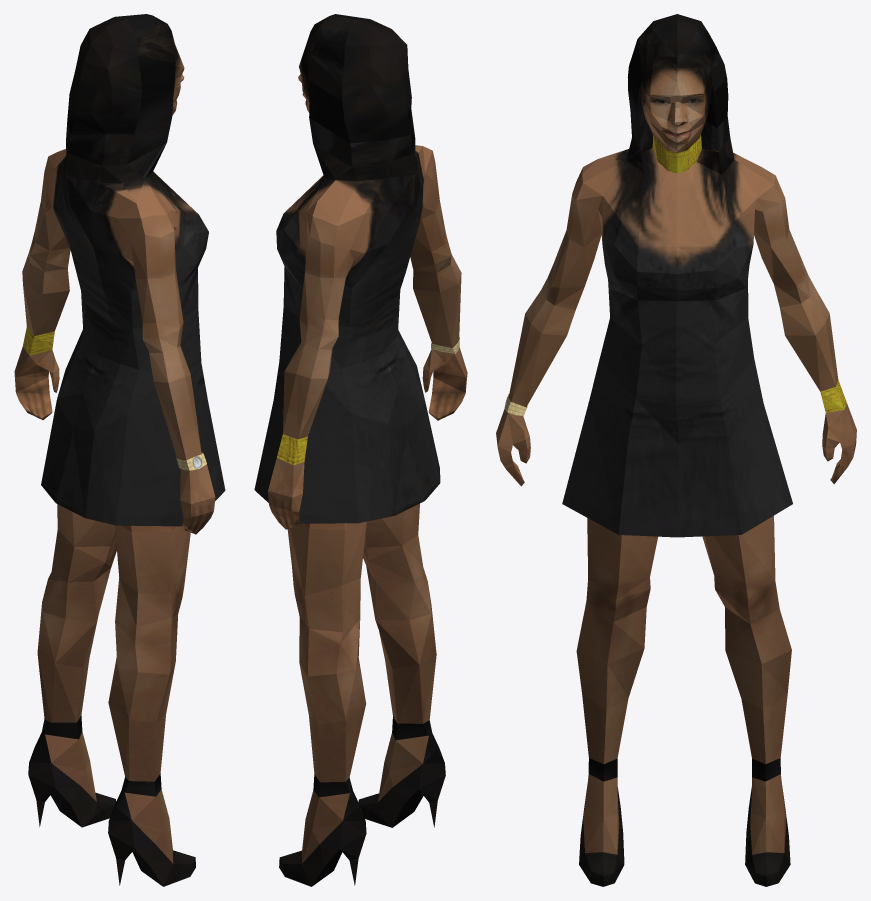
File: bfyri.obj
3 renders of one model, left to right at view 1: azimuth 30°, elevation 25°; view 2: azimuth 150°, elevation 25°; view 3: azimuth 270°, elevation 25°, orthographic. The views are drawn at different scales.
Visible parts, largest first — view 1: _Pelvis; view 2: _Pelvis; view 3: _Pelvis.
Part boxes in pixels (x1,y1,x2,y2): _Pelvis: (14,14,225,886); _Pelvis: (254,14,467,886); _Pelvis: (496,14,856,886).
Bounding box in the file's own units: 0.3225 × 1.78 × 0.6856.
3 materials, 3 textured.
